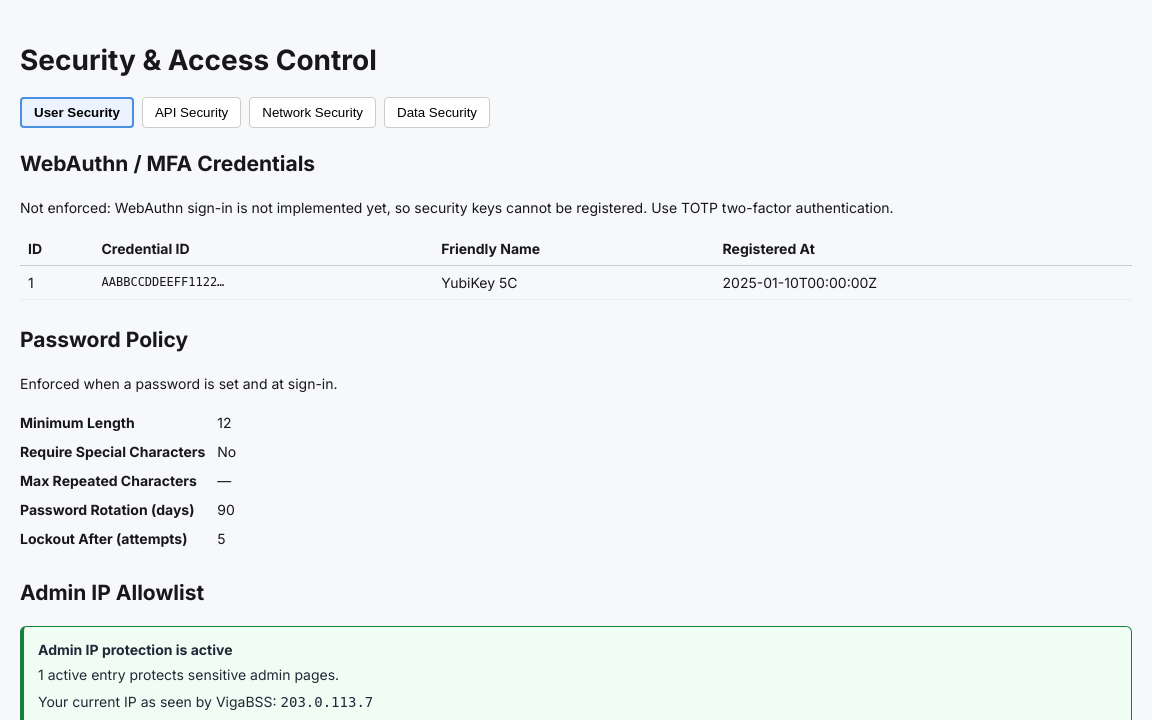
Scenario: SecurityAccessControlPage (§17) › switches to API Security tab and shows rate limits
The image size is (1152, 720).
Step 1. Click the button "API Security" → (192, 112), box [142,97,241,128]
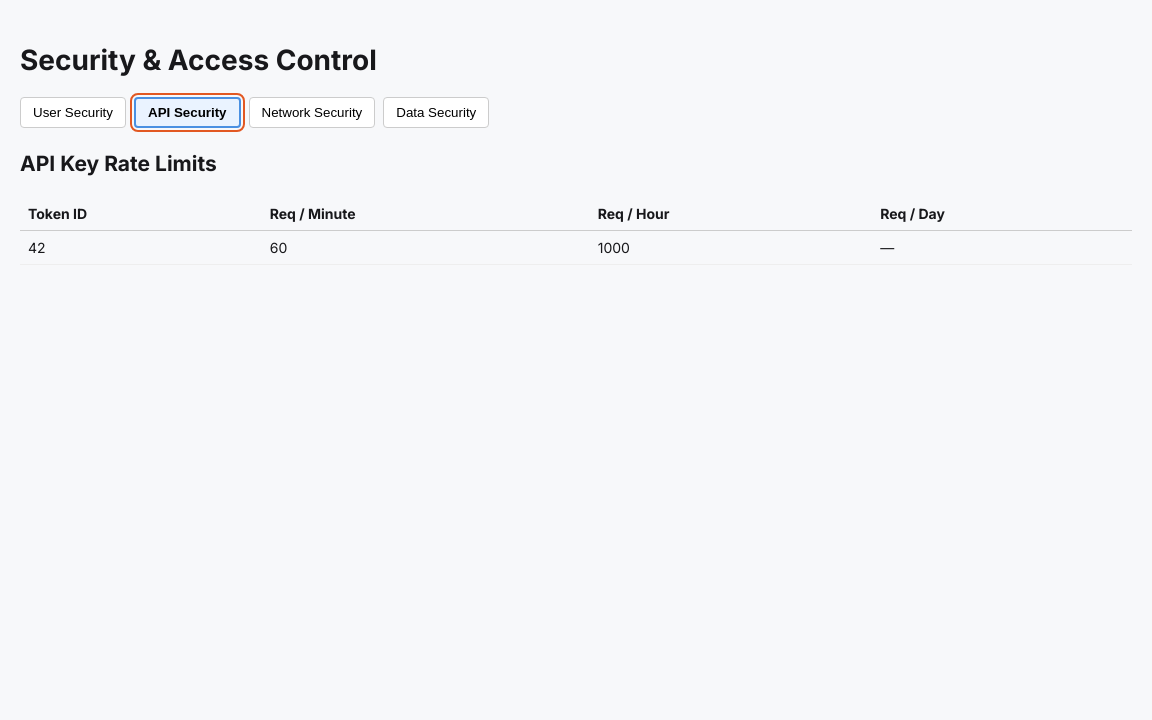
Expected: the text "60" is shown, [262,230,590,264]
